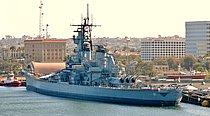MIL_Ship: (21, 7, 186, 108)
